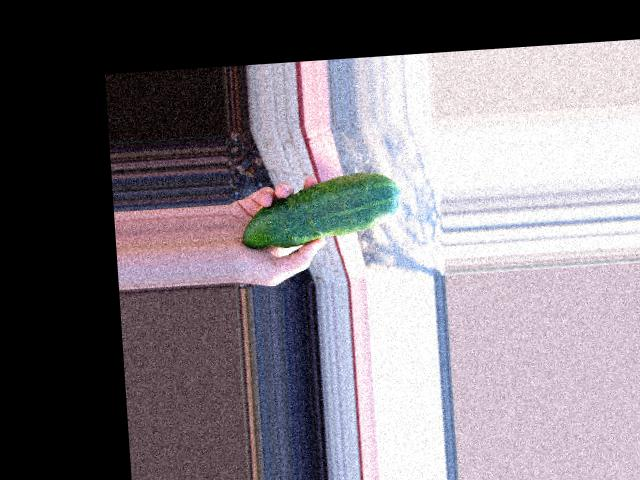cucumber: (239, 169, 402, 249)
